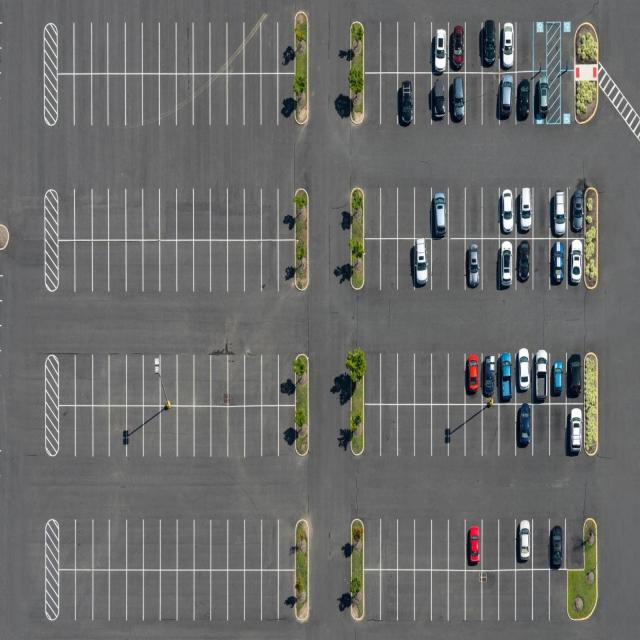space-empty: (50, 404, 80, 460), (523, 569, 553, 624), (70, 567, 97, 625), (51, 353, 80, 406), (258, 14, 284, 72), (222, 17, 249, 71), (70, 18, 96, 74), (71, 240, 96, 298), (55, 240, 80, 298), (71, 404, 96, 460), (107, 69, 131, 126), (240, 16, 264, 73), (176, 70, 200, 127), (54, 522, 80, 574), (158, 570, 182, 626), (155, 70, 179, 126), (71, 72, 94, 130), (70, 191, 96, 242), (138, 18, 163, 71), (86, 18, 110, 73), (106, 569, 129, 626), (105, 517, 130, 569), (565, 516, 590, 568), (71, 516, 95, 570), (107, 18, 131, 72), (140, 405, 164, 459), (156, 405, 180, 459), (224, 69, 247, 125), (208, 70, 231, 126), (174, 570, 197, 626), (126, 406, 149, 462), (125, 570, 148, 626), (276, 14, 298, 72), (55, 190, 80, 241), (140, 353, 164, 406), (140, 570, 163, 625), (88, 240, 110, 297), (88, 69, 110, 126), (90, 569, 112, 626), (107, 189, 131, 241), (140, 516, 164, 568), (176, 520, 200, 572), (158, 354, 182, 406), (105, 353, 129, 405), (207, 21, 231, 73), (124, 188, 148, 240), (176, 23, 200, 75), (209, 349, 232, 403), (88, 404, 111, 458), (124, 240, 147, 294), (140, 239, 163, 293), (193, 570, 215, 626), (192, 70, 214, 126), (123, 73, 145, 129), (188, 21, 212, 72), (140, 190, 164, 241), (72, 354, 95, 407), (396, 17, 419, 70), (159, 518, 182, 571), (193, 350, 216, 403), (157, 20, 180, 73), (177, 351, 200, 404), (530, 186, 553, 239), (108, 241, 130, 296), (106, 406, 128, 461), (514, 22, 538, 72), (479, 518, 502, 570), (125, 516, 148, 568), (192, 517, 215, 569), (156, 190, 179, 242), (414, 18, 436, 72), (444, 403, 466, 457), (192, 405, 214, 459), (464, 404, 486, 458), (464, 569, 486, 623), (209, 404, 231, 458), (444, 350, 466, 404), (241, 570, 263, 624), (123, 19, 145, 73), (260, 70, 282, 124), (225, 570, 247, 624), (208, 187, 230, 241), (156, 240, 178, 294), (139, 74, 161, 128), (260, 570, 282, 624), (177, 405, 199, 459), (176, 187, 198, 241), (481, 70, 502, 126), (446, 186, 468, 239), (92, 354, 114, 407), (481, 187, 503, 240), (529, 517, 551, 570), (398, 238, 419, 293), (481, 571, 502, 626), (209, 239, 230, 294), (497, 402, 518, 457), (209, 570, 230, 625), (534, 240, 555, 295), (414, 186, 436, 238), (90, 517, 112, 569), (242, 518, 264, 570), (226, 518, 248, 570), (397, 188, 419, 240), (224, 188, 246, 240), (209, 516, 231, 568), (496, 520, 518, 572), (262, 518, 284, 570), (126, 355, 148, 407), (377, 240, 398, 294), (193, 240, 214, 294), (225, 241, 246, 295), (447, 571, 468, 625), (429, 518, 450, 572), (430, 348, 451, 402), (193, 187, 214, 241), (360, 347, 381, 401), (88, 190, 110, 241), (461, 22, 483, 73), (360, 519, 382, 570), (432, 570, 452, 626), (242, 69, 262, 125), (481, 404, 502, 457), (447, 238, 468, 291), (397, 350, 418, 403), (413, 350, 434, 403), (466, 71, 486, 126), (380, 72, 400, 127), (530, 404, 551, 456), (465, 187, 486, 239), (447, 516, 468, 568), (242, 188, 263, 240), (361, 21, 382, 73), (261, 188, 282, 240), (496, 571, 516, 625), (414, 404, 434, 458), (414, 571, 434, 625), (430, 403, 450, 457), (379, 570, 399, 624), (378, 349, 398, 403), (178, 240, 198, 294), (228, 352, 248, 406), (516, 570, 535, 626), (432, 238, 452, 291), (414, 75, 434, 128), (482, 239, 502, 292), (378, 19, 398, 72), (228, 406, 248, 459), (549, 404, 569, 457), (242, 351, 262, 404), (362, 570, 382, 623), (362, 73, 381, 128), (396, 516, 416, 568), (414, 516, 434, 568), (377, 186, 397, 238), (380, 516, 400, 568), (361, 404, 381, 456), (262, 352, 282, 404), (398, 570, 417, 624), (398, 404, 417, 458), (379, 404, 398, 458), (360, 186, 380, 237), (530, 22, 550, 72), (244, 407, 263, 459), (263, 407, 282, 459), (262, 239, 280, 293), (244, 240, 262, 294), (362, 238, 380, 292), (278, 240, 296, 291)
space-occupied: (531, 68, 561, 128), (567, 183, 592, 238), (538, 21, 563, 71), (564, 351, 587, 404), (496, 71, 518, 126), (533, 349, 555, 404), (479, 352, 501, 406), (495, 352, 517, 406), (513, 348, 534, 404), (550, 185, 572, 238), (565, 402, 586, 457), (547, 348, 568, 403), (496, 22, 519, 72), (480, 23, 502, 75), (514, 187, 536, 239), (516, 70, 536, 126), (515, 240, 536, 293), (549, 516, 570, 569), (447, 22, 468, 74), (414, 238, 434, 292), (566, 239, 586, 293), (463, 238, 483, 292), (447, 74, 468, 125), (430, 21, 451, 72), (399, 72, 418, 128), (496, 240, 516, 293), (430, 73, 450, 126), (498, 187, 518, 239), (464, 352, 484, 404), (515, 518, 535, 570), (515, 405, 535, 456), (464, 519, 484, 570), (430, 186, 450, 237), (550, 238, 568, 292)
